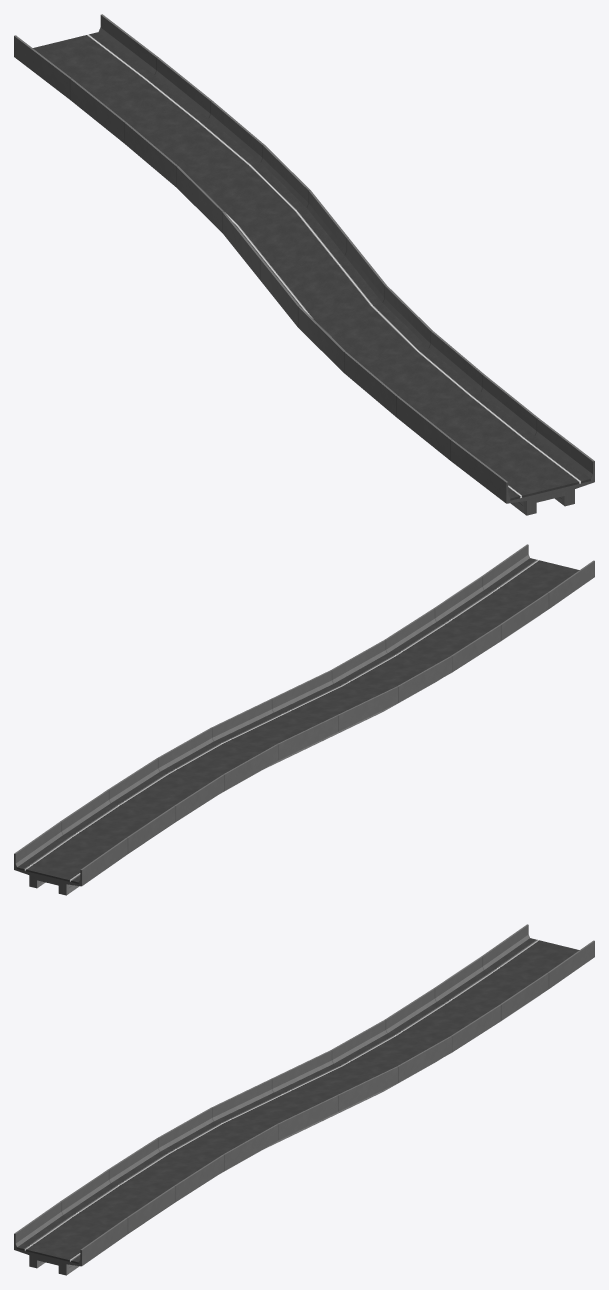
File: 高速道路_カーブ_8.4m×50m_右斜め.fbx
3 renders of one model, top to bottom at view 1: azimuth 30°, elevation 25°; view 2: azimuth 150°, elevation 25°; view 3: azimuth 330°, elevation 25°, orthographic. The views are drawn at different scales.
Visible parts, largest first — view 1: 道路, 高架橋; view 2: 道路, 高架橋; view 3: 道路, 高架橋.
Part boxes in pixels (box(x1,y1,x2,y2)): 道路: box(33, 32, 590, 500); 高架橋: box(14, 14, 594, 515); 道路: box(17, 558, 579, 883); 高架橋: box(14, 544, 594, 895); 道路: box(17, 938, 579, 1263); 高架橋: box(14, 924, 594, 1275).
Size of the model in its own units: 8.8 by 1.8 by 50.
